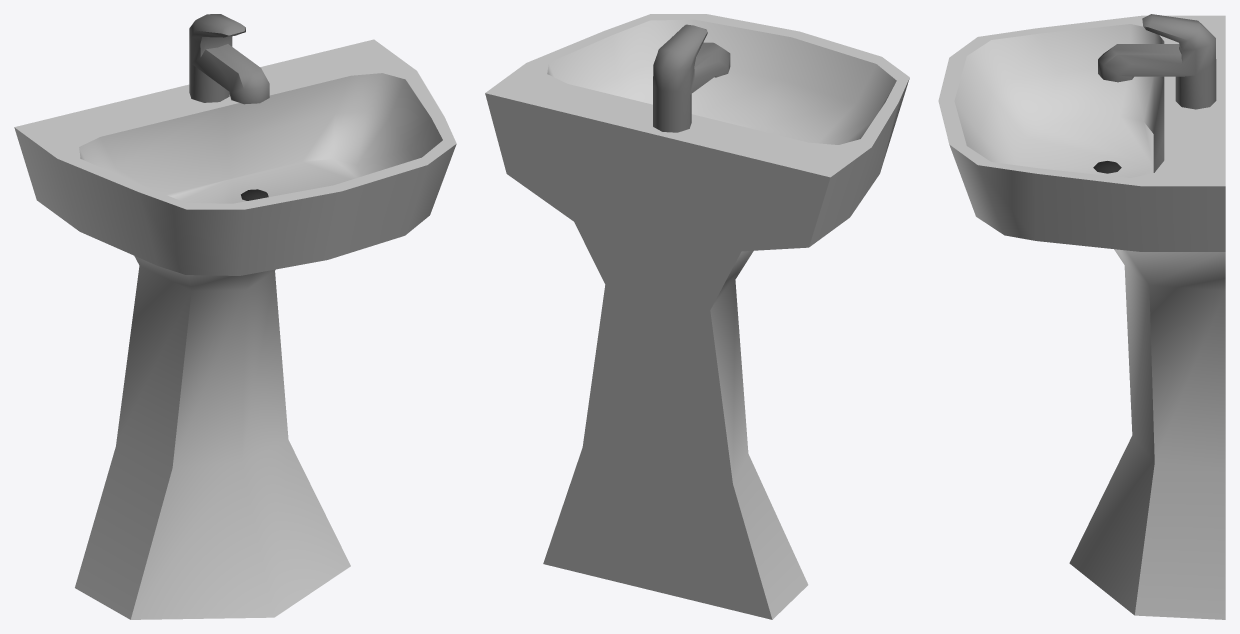
Rendered from bathSink.fbx.
The picture shows the model from 3 angles, left to right: view 1: azimuth 30°, elevation 25°; view 2: azimuth 150°, elevation 25°; view 3: azimuth 270°, elevation 25°; orthographic projection. The views are drawn at different scales.
Parts seen in each view (by area): view 1: Sink; view 2: Sink; view 3: Sink.
Boxes of the visible parts, x1,y1,x2,y2 form: Sink: [14, 14, 456, 619]; Sink: [485, 14, 909, 619]; Sink: [938, 14, 1225, 619].
Size of the model in its own units: 1197 by 1788 by 851.
